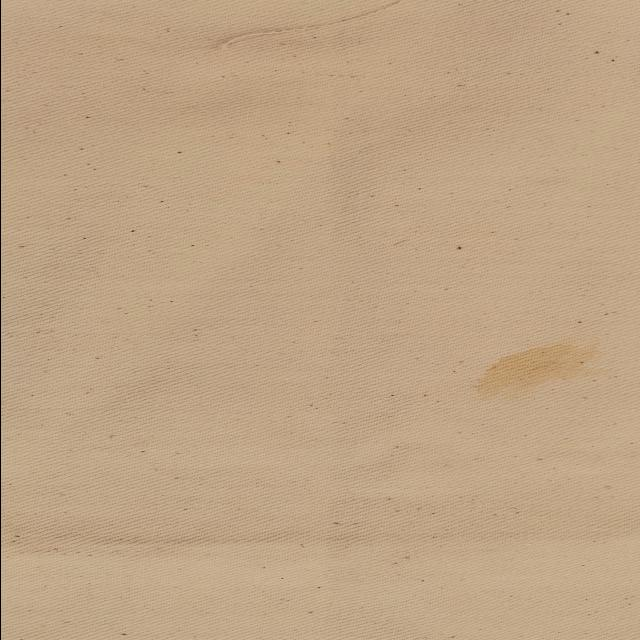taaaches: (462, 340, 608, 394)
